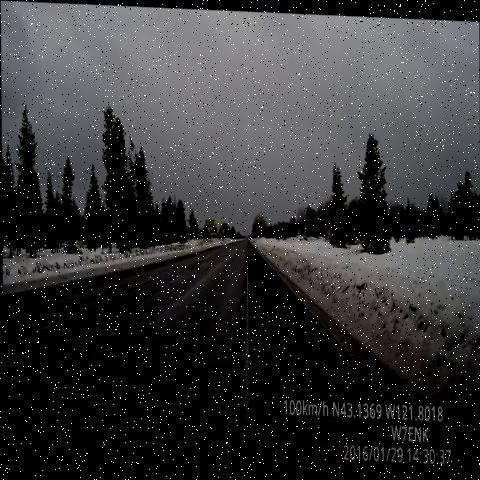pothole: (32, 324, 125, 418), (2, 300, 80, 359), (122, 297, 158, 343)
